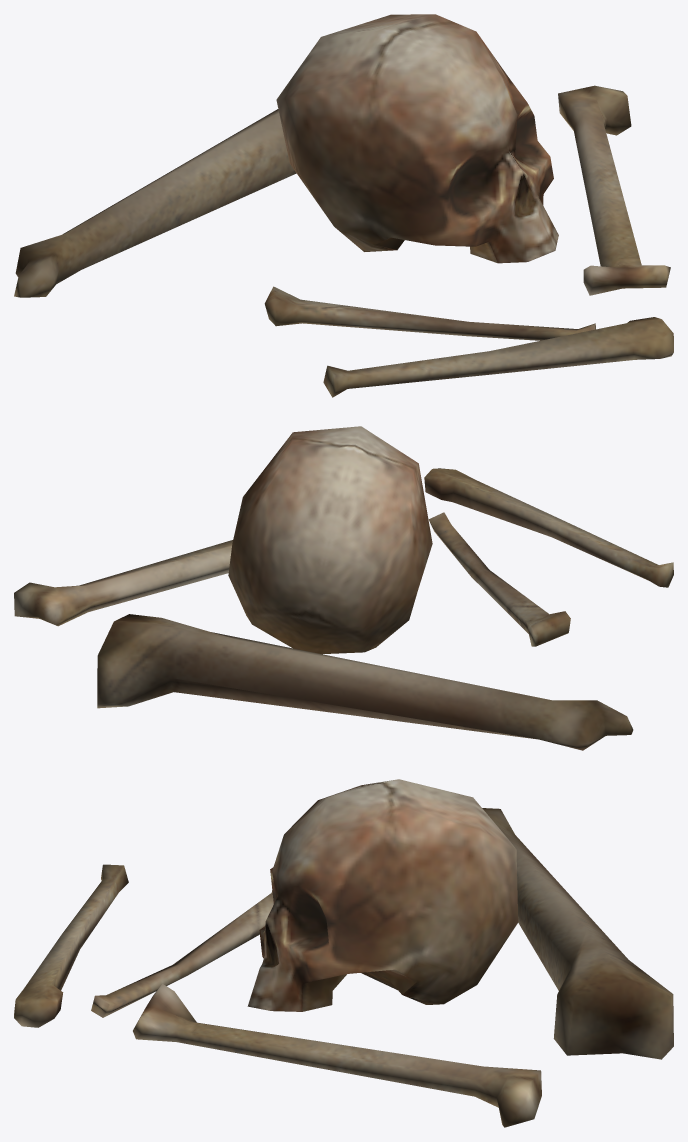
File: skeletons_skelet_mass_02.fbx
3 renders of one model, top to bottom at view 1: azimuth 30°, elevation 25°; view 2: azimuth 150°, elevation 25°; view 3: azimuth 270°, elevation 25°, orthographic. The views are drawn at different scales.
Parts seen in each view (by area): view 1: skeletons_skelet_mass_02; view 2: skeletons_skelet_mass_02; view 3: skeletons_skelet_mass_02.
Boxes of the visible parts, left/top/right/bottom form: skeletons_skelet_mass_02: left=14, top=14, right=673, bottom=397; skeletons_skelet_mass_02: left=14, top=426, right=673, bottom=750; skeletons_skelet_mass_02: left=14, top=779, right=673, bottom=1127.
Size of the model in its own units: 56.12 by 18.18 by 51.4.
